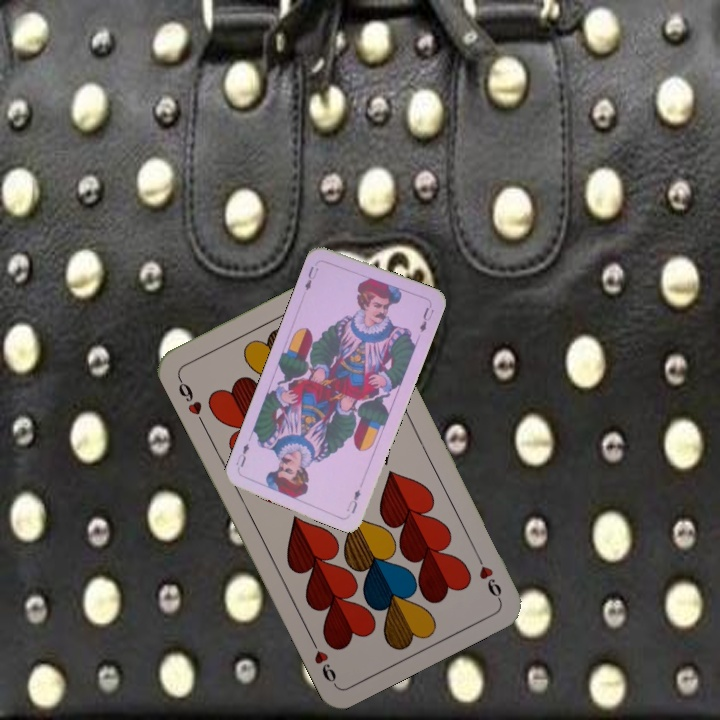EU: (342, 485, 363, 516), (301, 262, 321, 293)
H9: (173, 372, 207, 427), (471, 547, 505, 602)
